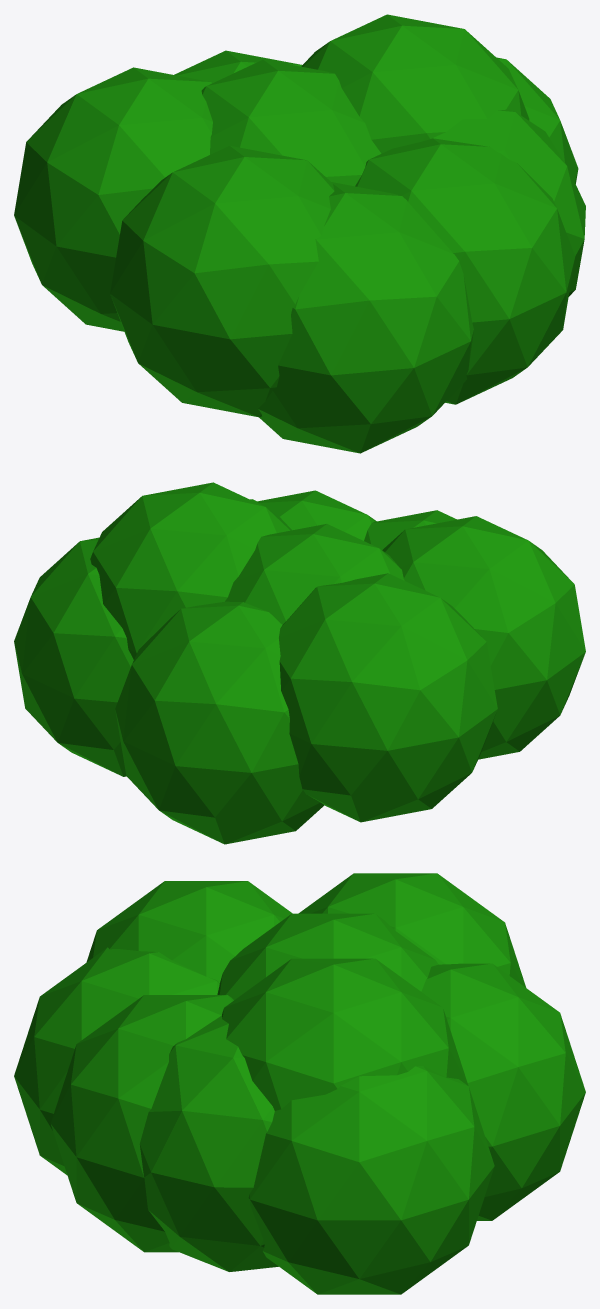
File: arbusto blender (1).fbx
The picture shows the model from 3 angles, top to bottom: view 1: azimuth 30°, elevation 25°; view 2: azimuth 150°, elevation 25°; view 3: azimuth 270°, elevation 25°; orthographic projection. The views are drawn at different scales.
Visible parts, largest first — view 1: Arbusto; view 2: Arbusto; view 3: Arbusto.
Boxes of the visible parts, x1,y1,x2,y2 form: Arbusto: (14,14,585,453); Arbusto: (14,482,585,844); Arbusto: (14,873,585,1294).
Size of the model in its own units: 423 by 250 by 423.
Materials: 1 (1 with a texture image).
